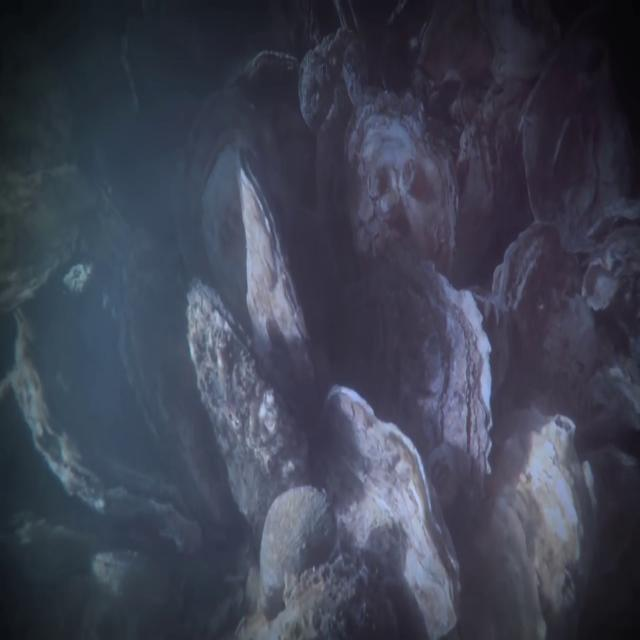Oyster-Closed: (340, 249, 504, 535), (10, 310, 204, 548), (314, 379, 469, 638), (107, 226, 237, 528), (197, 141, 328, 432), (183, 277, 318, 547), (467, 393, 606, 632), (257, 482, 336, 616)
Oyster-Indeterminate: (340, 81, 470, 279), (0, 160, 128, 311), (495, 219, 569, 341), (229, 40, 299, 87)
